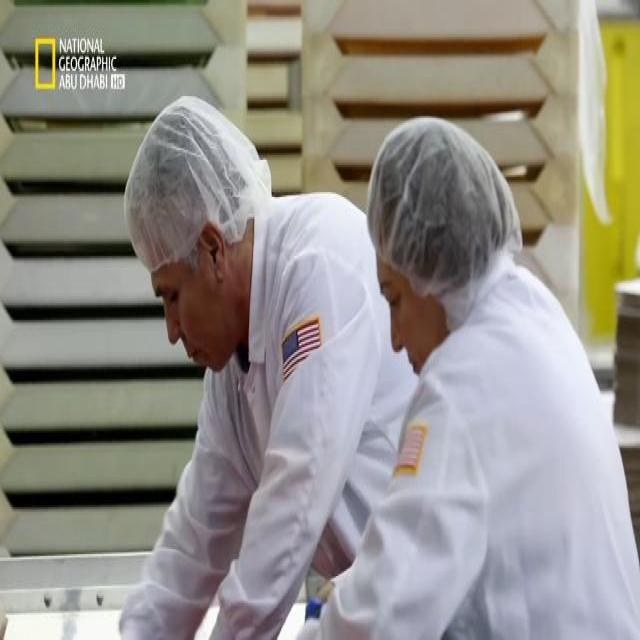hairnet: (366, 117, 507, 270), (123, 96, 253, 241)
